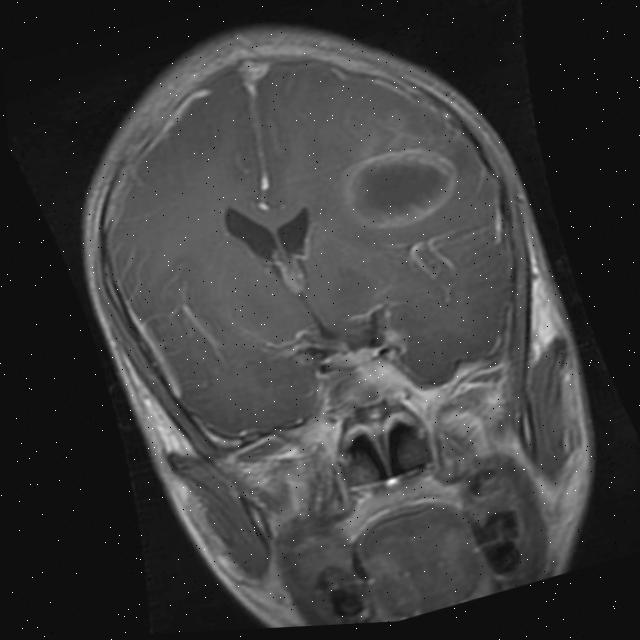Glioma: (332, 133, 468, 240)
